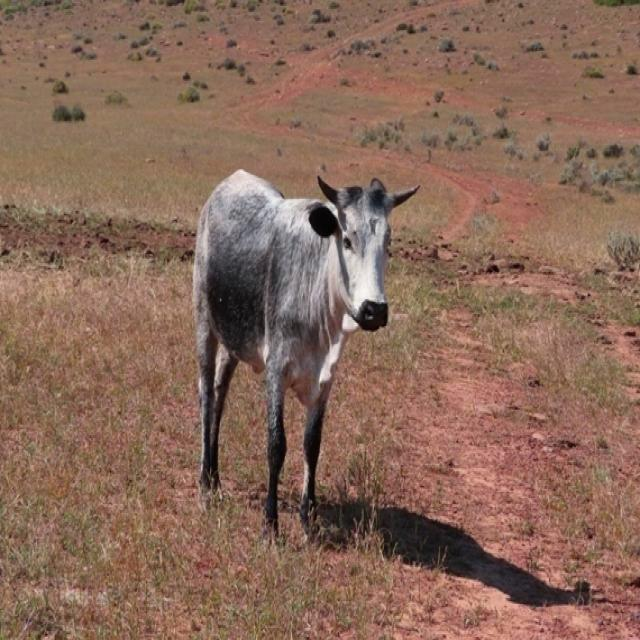cow: (194, 170, 418, 536)
